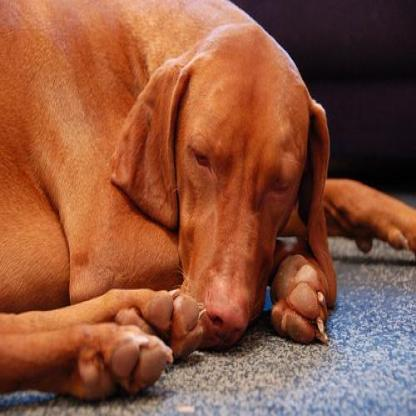vizsla: (0, 0, 412, 402)
